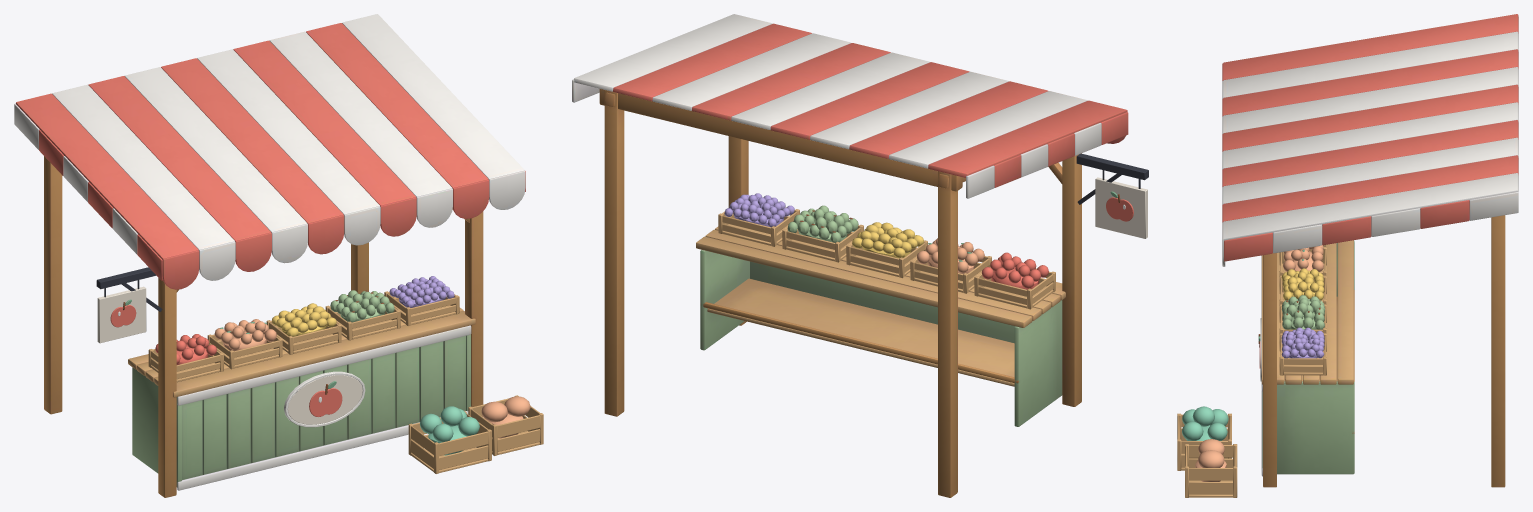
File: market-stall.glb
3 renders of one model, left to right at view 1: azimuth 30°, elevation 25°; view 2: azimuth 150°, elevation 25°; view 3: azimuth 270°, elevation 25°, orthographic. The views are drawn at different scales.
Parts seen in each view (by area): view 1: market-stall_body, market-stall_crates, market-stall_produce, market-stall_signs; view 2: market-stall_body, market-stall_produce, market-stall_crates, market-stall_signs; view 3: market-stall_body, market-stall_produce, market-stall_crates.
Part boxes in pixels (x1,y1,x2,y2): market-stall_body: (14, 14, 525, 497); market-stall_crates: (148, 291, 543, 473); market-stall_produce: (155, 276, 530, 455); market-stall_signs: (96, 267, 365, 427); market-stall_body: (572, 14, 1128, 497); market-stall_produce: (724, 193, 1048, 289); market-stall_crates: (718, 207, 1055, 309); market-stall_signs: (1076, 153, 1148, 238); market-stall_body: (1222, 14, 1518, 487); market-stall_produce: (1182, 245, 1325, 481); market-stall_crates: (1177, 244, 1326, 497).
Size of the model in its own units: 3.64 by 2.65 by 2.66.
15 materials, 1 textured.
